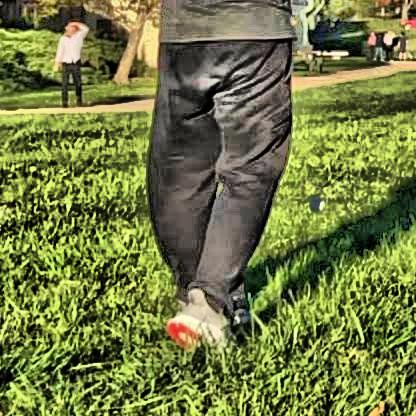golfball: (305, 194, 322, 209)
